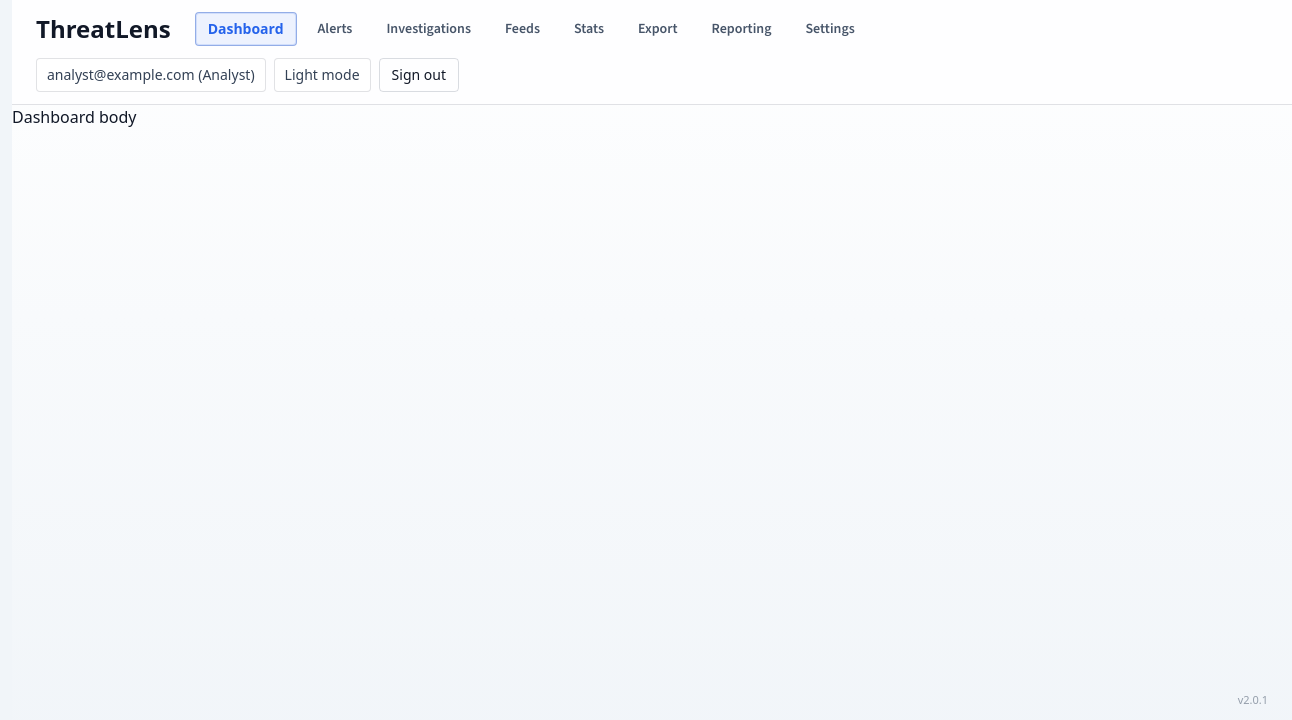
it: AppShell › does not mark the browser logged out when the logout request fails with a 5xx response
The width and height of the screenshot is (1292, 720).
Click the button "Sign out" at coordinates (419, 75), box x1=379 y1=58 x2=459 y2=92
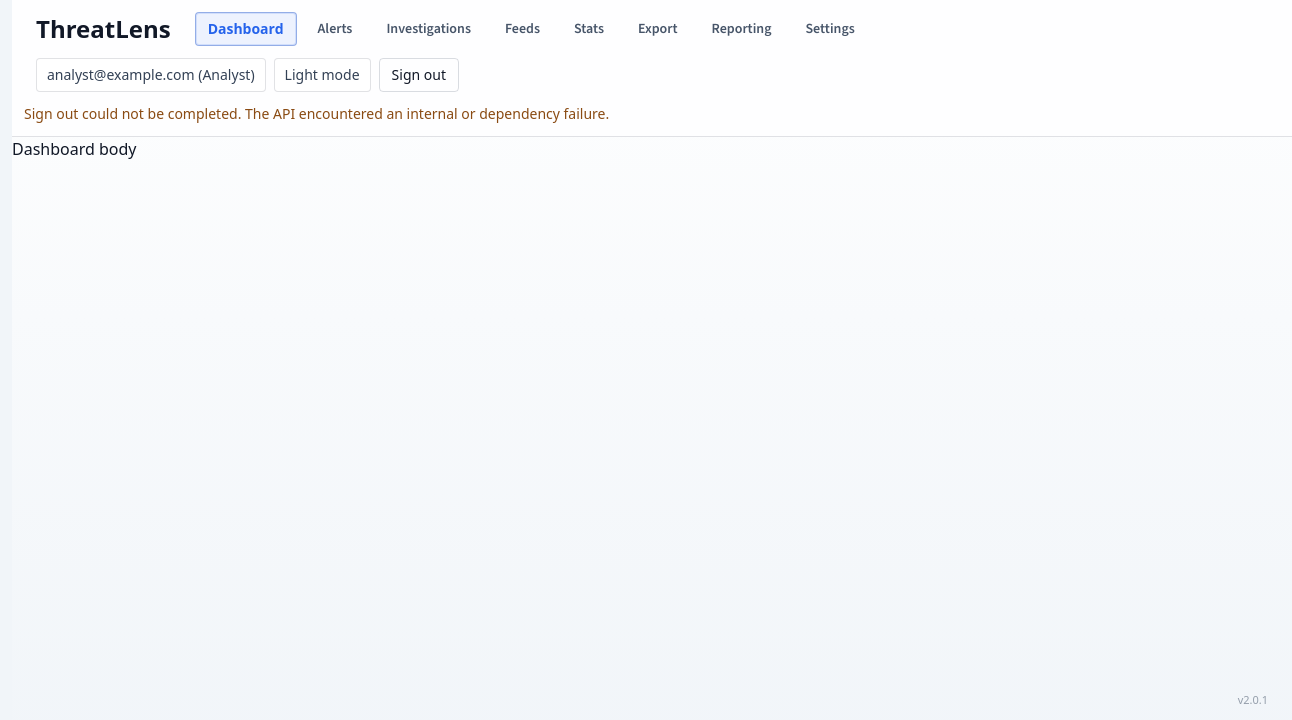
Expected: the text "Dashboard body" is shown, x1=12 y1=138 x2=136 y2=160
Result: the text "Sign out could not be completed. The API encountered an internal or dependency failure." is shown at x1=24 y1=104 x2=609 y2=123
